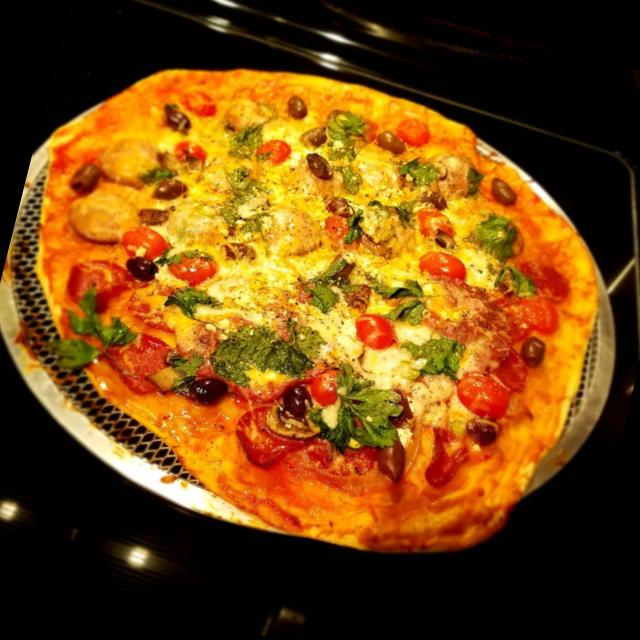black_olives: (66, 154, 104, 199), (118, 247, 160, 285), (190, 372, 228, 409), (487, 172, 524, 208), (152, 171, 191, 202), (374, 122, 408, 156), (281, 380, 311, 417), (466, 408, 496, 444), (302, 148, 338, 178), (520, 332, 548, 370), (282, 90, 312, 118)
mushrooms: (262, 402, 324, 448), (145, 337, 196, 392), (342, 279, 370, 314)
pepperoni: (100, 328, 180, 401), (232, 401, 308, 473), (62, 180, 138, 250), (64, 250, 138, 321), (452, 361, 514, 422), (414, 244, 474, 296), (166, 242, 222, 297), (346, 306, 397, 356), (114, 216, 172, 258), (412, 204, 457, 244), (252, 132, 292, 168), (399, 112, 438, 148)
pizza: (41, 70, 598, 554)
